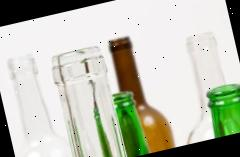glass: (2, 5, 240, 157)
